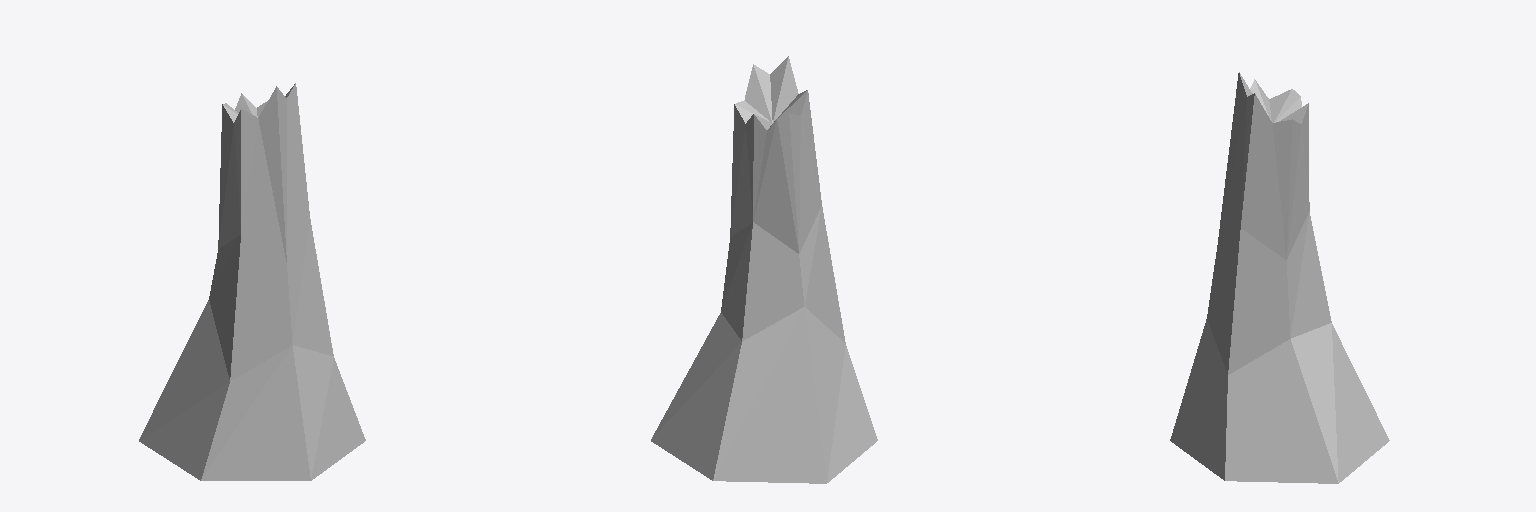
Rendered from swamptreelog02.obj.
3 renders of one model, left to right at view 1: azimuth 30°, elevation 25°; view 2: azimuth 150°, elevation 25°; view 3: azimuth 270°, elevation 25°, orthographic.
Visible parts, largest first — view 1: SwampTreeLog02; view 2: SwampTreeLog02; view 3: SwampTreeLog02.
Boxes of the visible parts, box(x1,y1,x2,y2) form: SwampTreeLog02: box(139, 83, 365, 480); SwampTreeLog02: box(651, 56, 877, 483); SwampTreeLog02: box(1170, 72, 1389, 483).
Bounding box in the file's own units: 5.76 × 11.52 × 6.21.